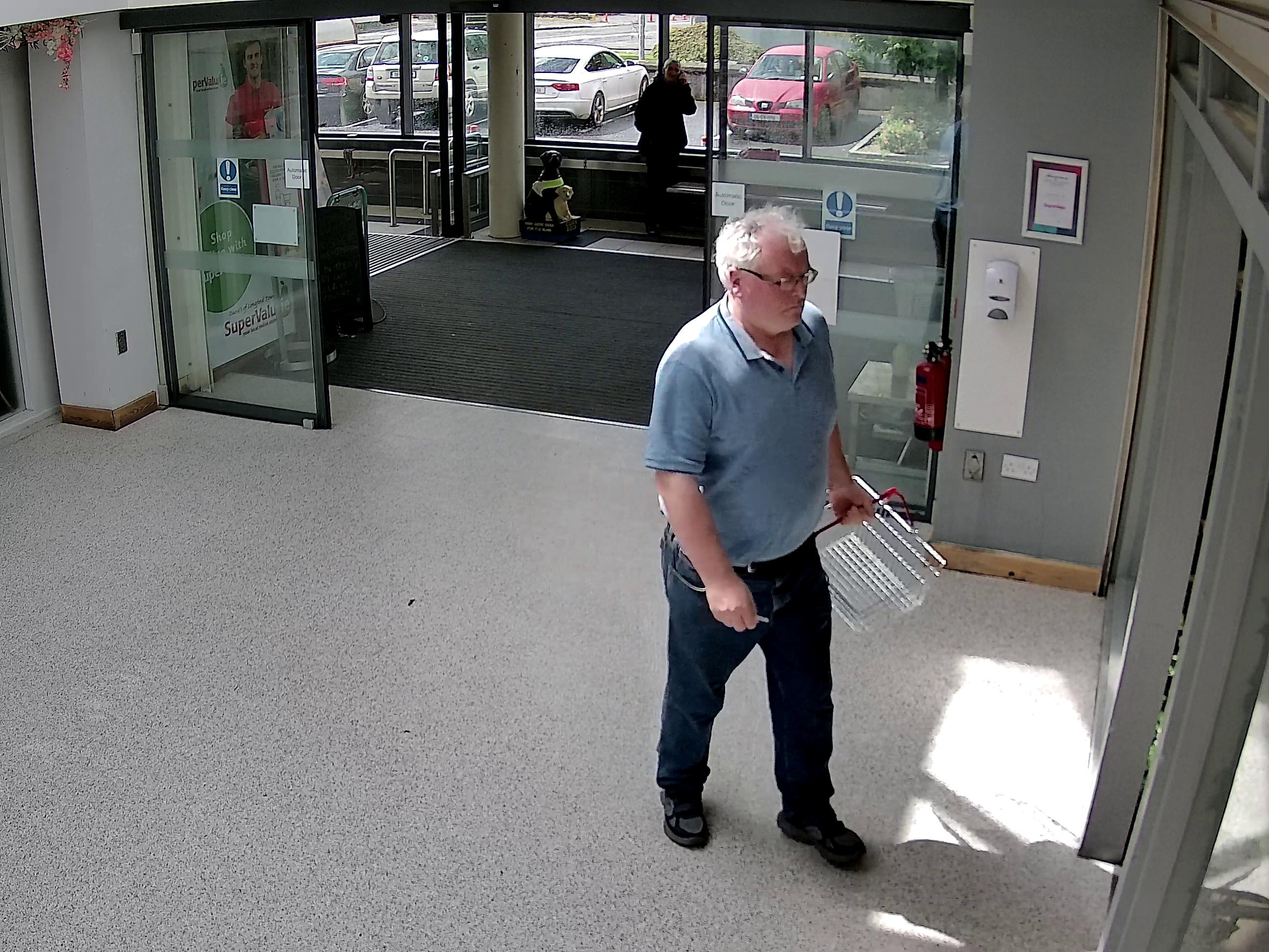empty-basket: (803, 468, 946, 628)
person: (643, 204, 873, 870)
person-with-empty-basket-trolly: (643, 204, 945, 867)
